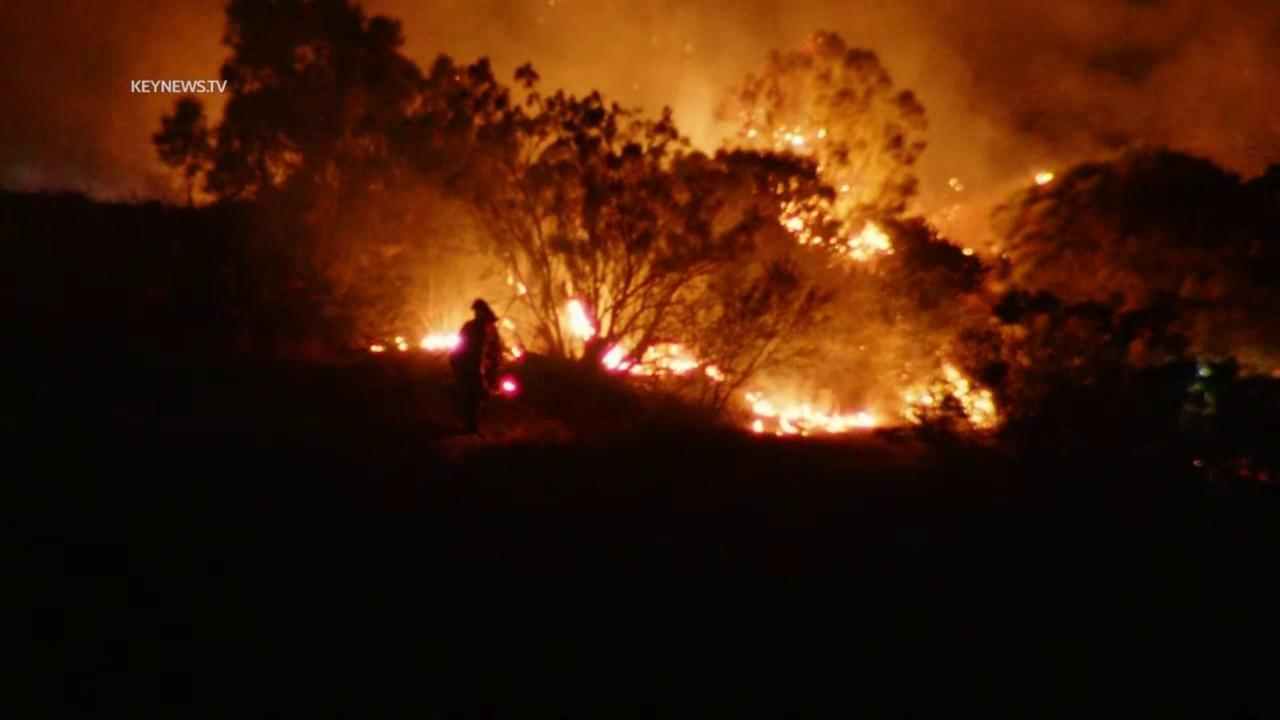fire: (775, 196, 897, 261), (900, 362, 1009, 431), (744, 383, 875, 438), (645, 338, 727, 381), (568, 297, 613, 340), (418, 323, 465, 354), (602, 341, 643, 375), (498, 375, 519, 400), (783, 128, 806, 149), (1032, 170, 1058, 187), (506, 277, 528, 296), (393, 333, 411, 352), (509, 345, 525, 363), (839, 181, 854, 194), (368, 342, 387, 351), (502, 317, 515, 330), (960, 245, 974, 257), (745, 128, 758, 140), (816, 128, 826, 140)
smoke: (0, 0, 1280, 275)
